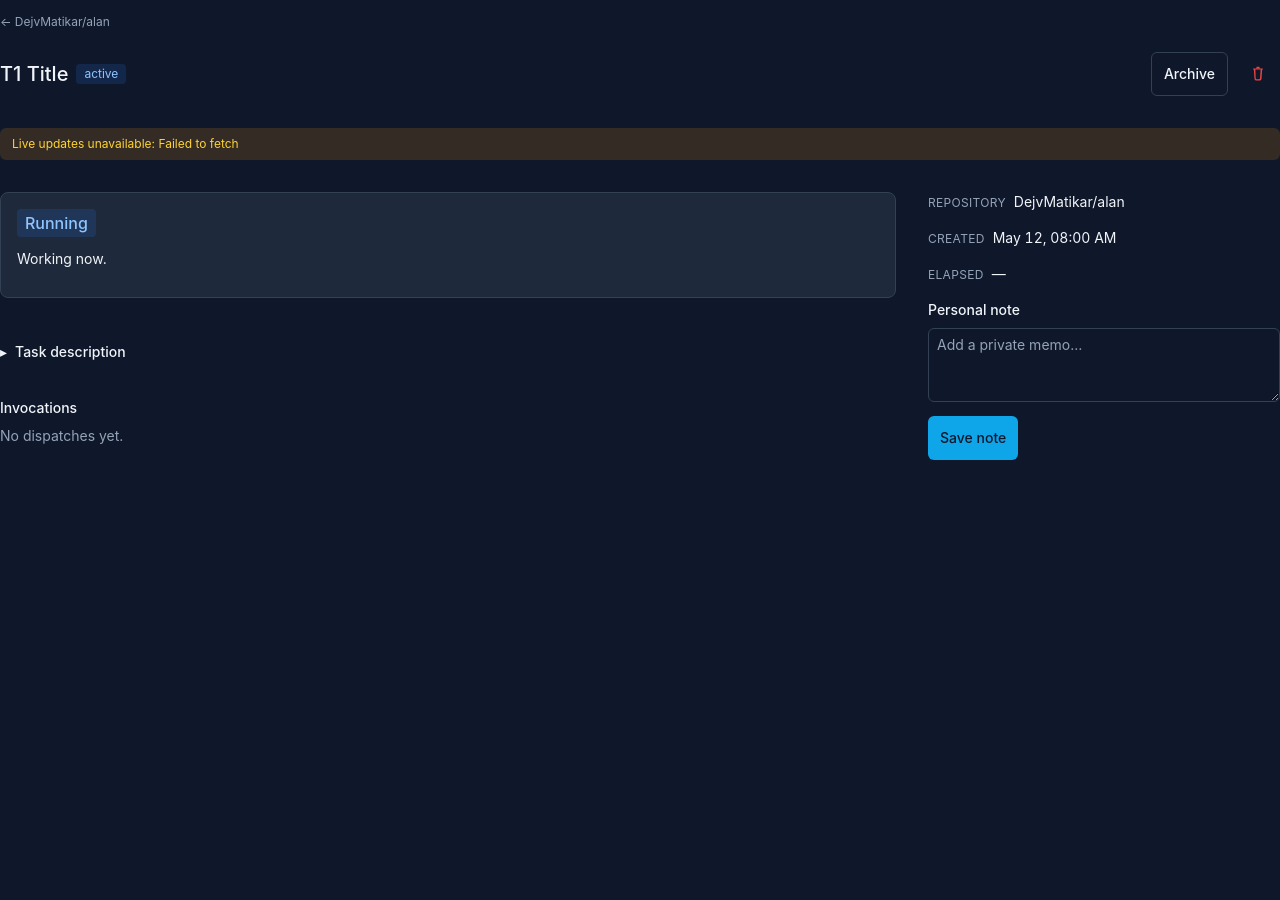
Scenario: Workspace detail › stringifies non-Error rejections from deleteWorkspace into the dialog alert
Click the button named "Delete".
click(1258, 74)  # box [1236,52,1279,96]
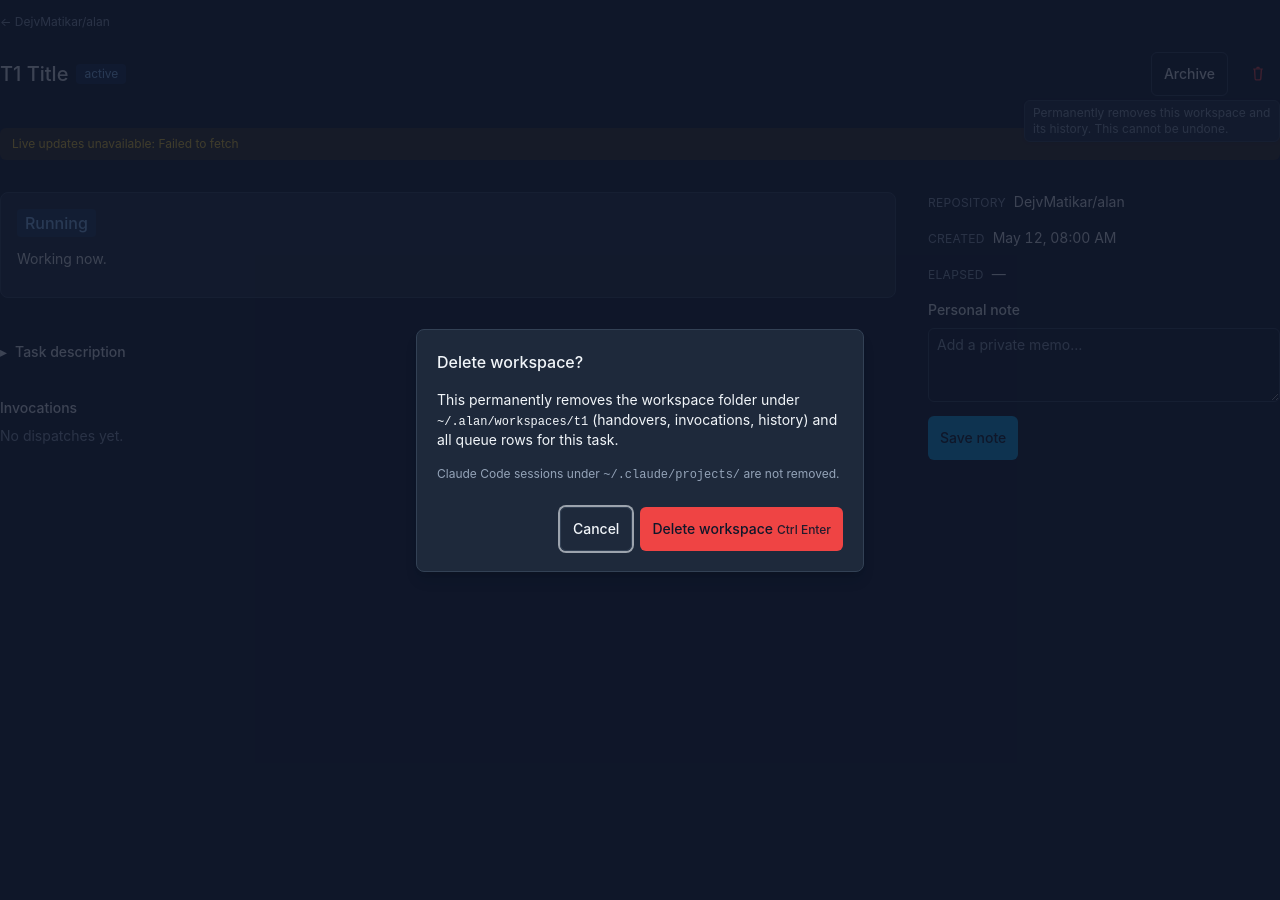
Click the button "Delete workspace Ctrl Enter".
click(742, 528)  # box [640,506,843,550]
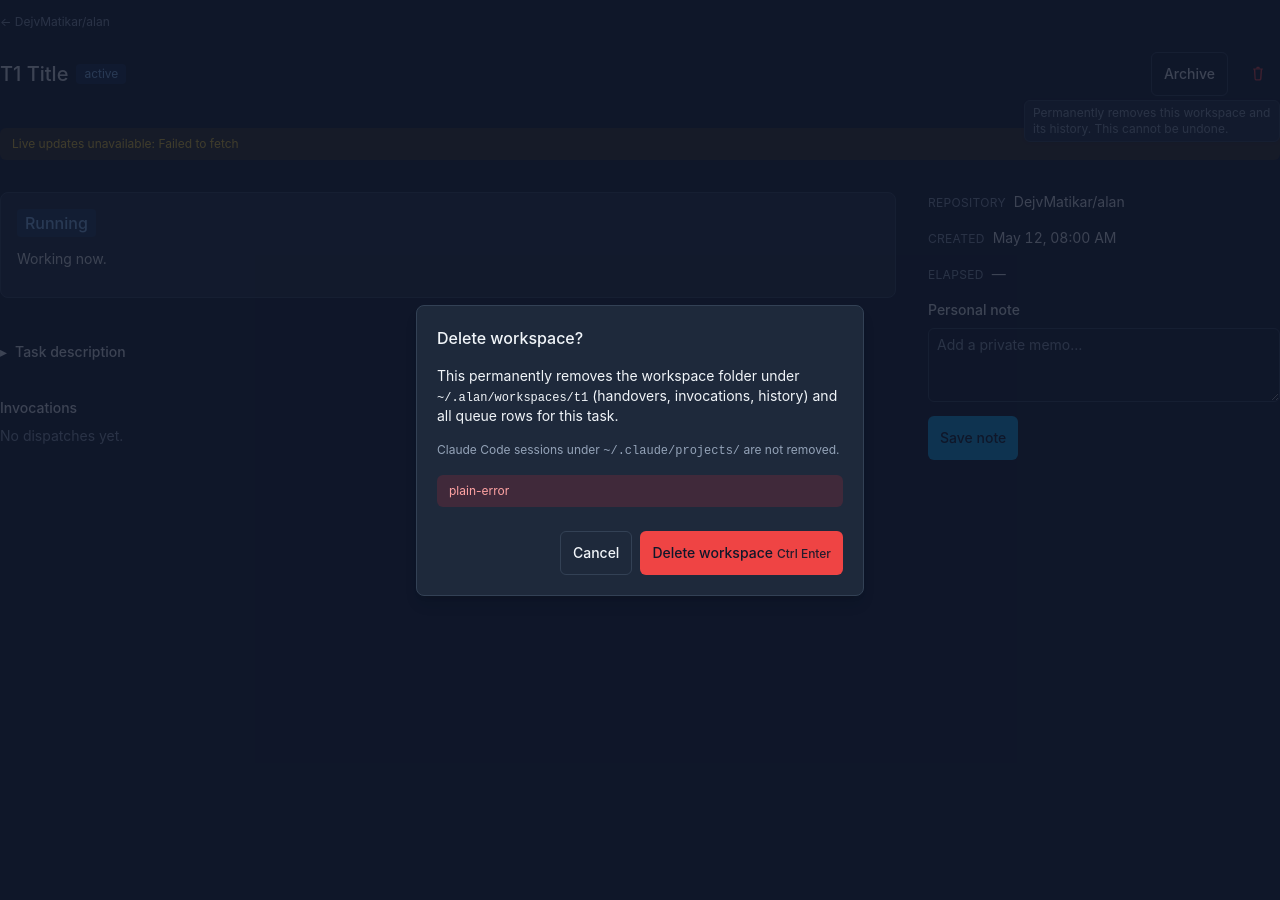
Now the message reads "plain-error", box [449,482,509,498]
